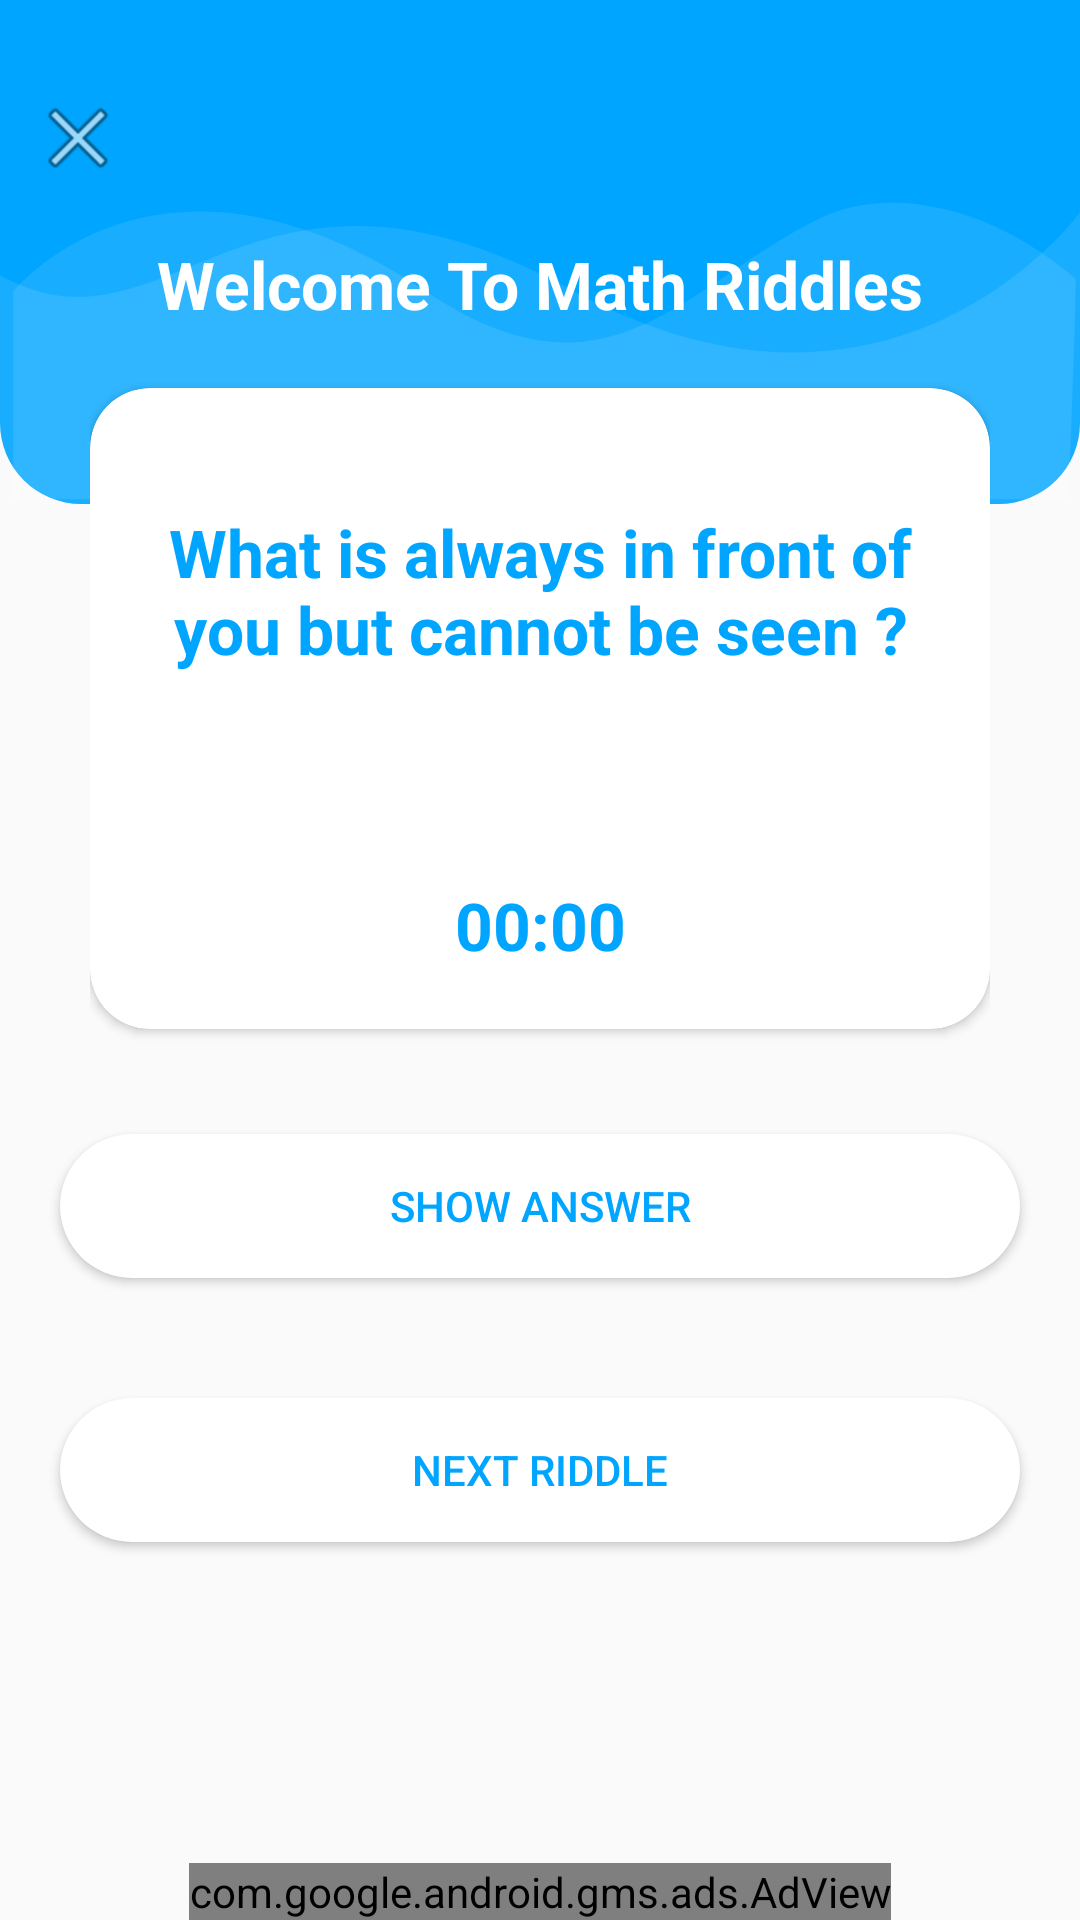

Screen size 1080 x 1920. Icon name, then its center in pixels as (x,y):
close clear cancel: (78,138)
